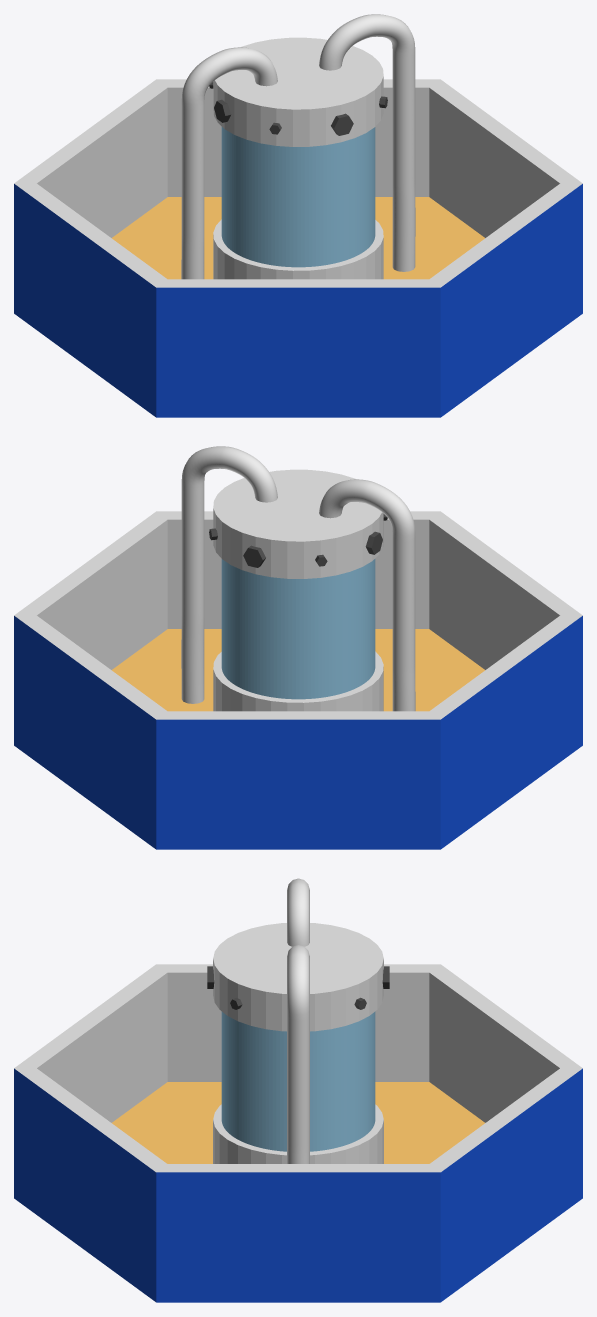
File: royalJellyFactory.fbx
3 renders of one model, top to bottom at view 1: azimuth 30°, elevation 25°; view 2: azimuth 150°, elevation 25°; view 3: azimuth 270°, elevation 25°, orthographic.
Visible parts, largest first — view 1: honeycomb, jellyfactory; view 2: honeycomb, jellyfactory; view 3: honeycomb, jellyfactory.
Part boxes in pixels (bbox=[...]): honeycomb: bbox=[14, 79, 582, 417]; jellyfactory: bbox=[181, 14, 415, 279]; honeycomb: bbox=[14, 511, 582, 849]; jellyfactory: bbox=[181, 446, 415, 711]; honeycomb: bbox=[14, 964, 582, 1302]; jellyfactory: bbox=[207, 878, 389, 1163].
Size of the model in its own units: 86.6 by 54.42 by 100.
